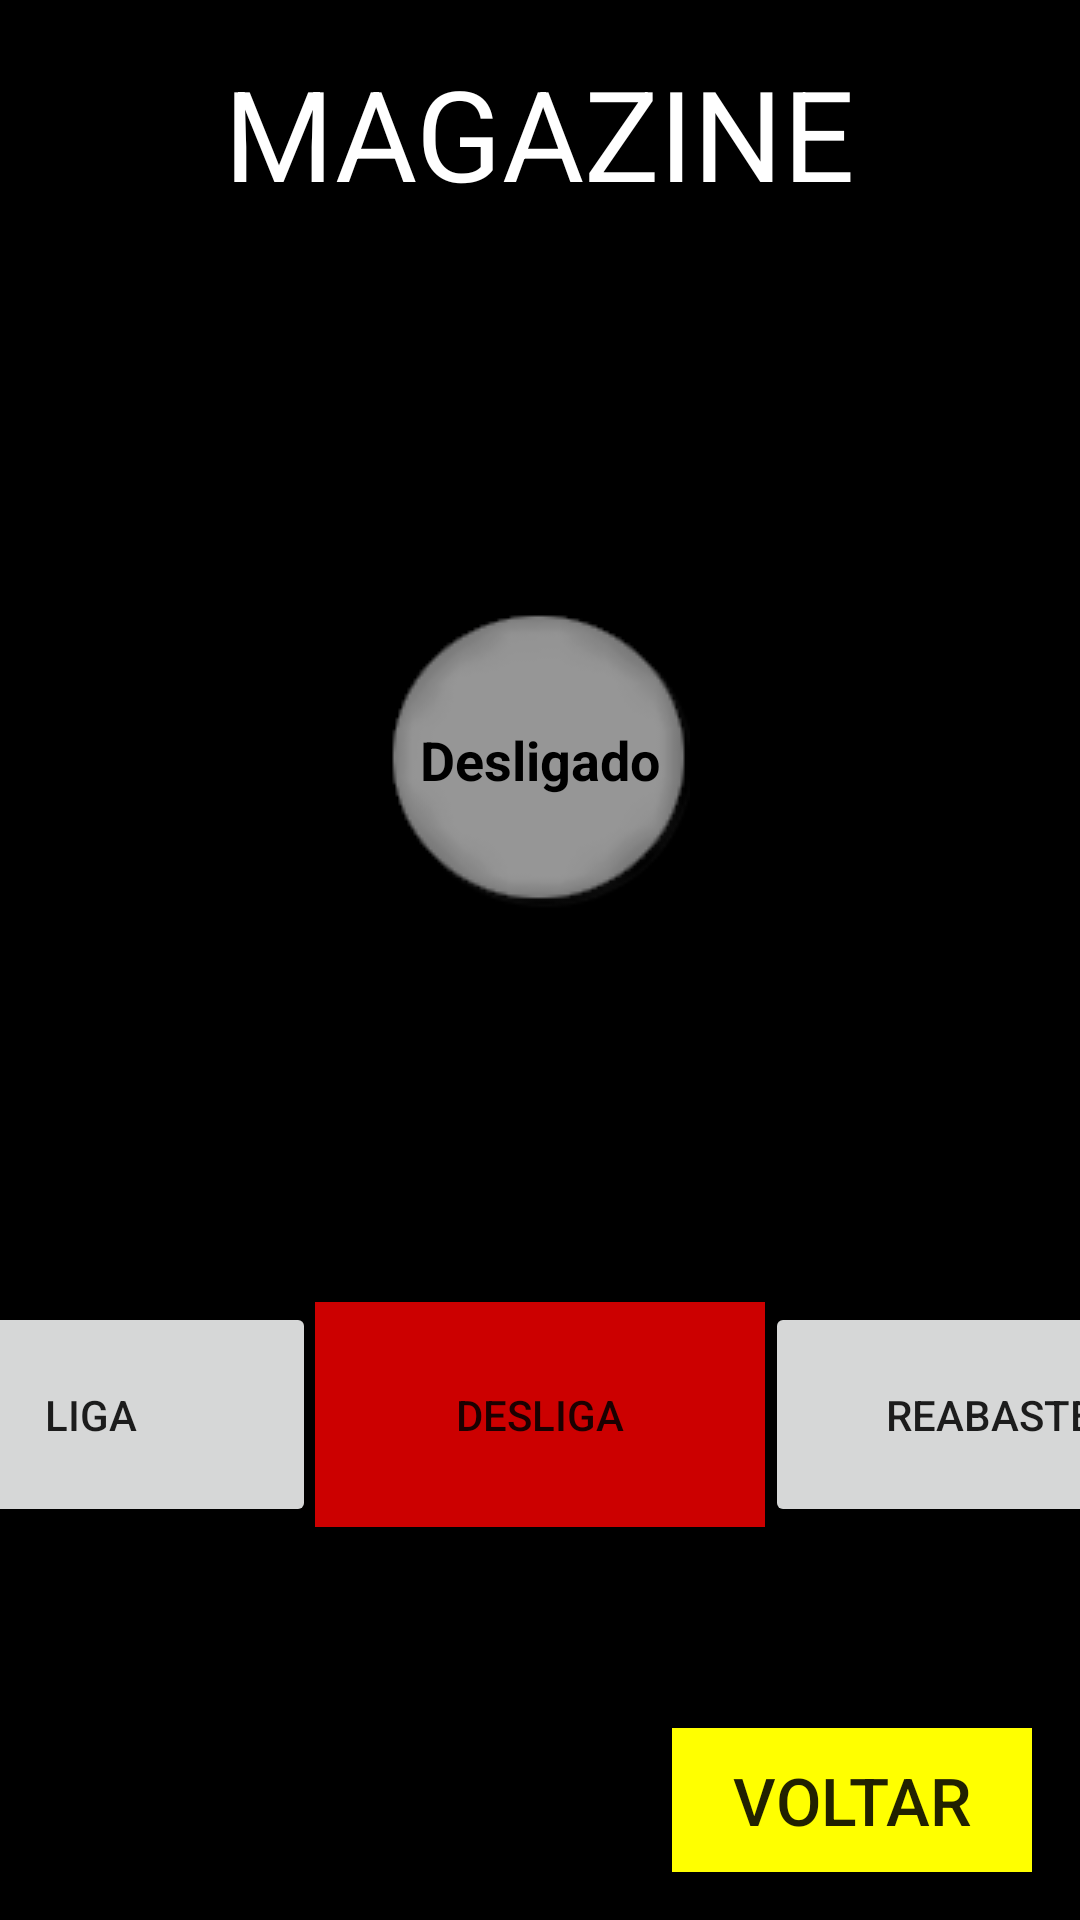

Icon click points for this 1080px×1920px phone screenshot, format point (x, y):
led cinza: point (538, 757)
